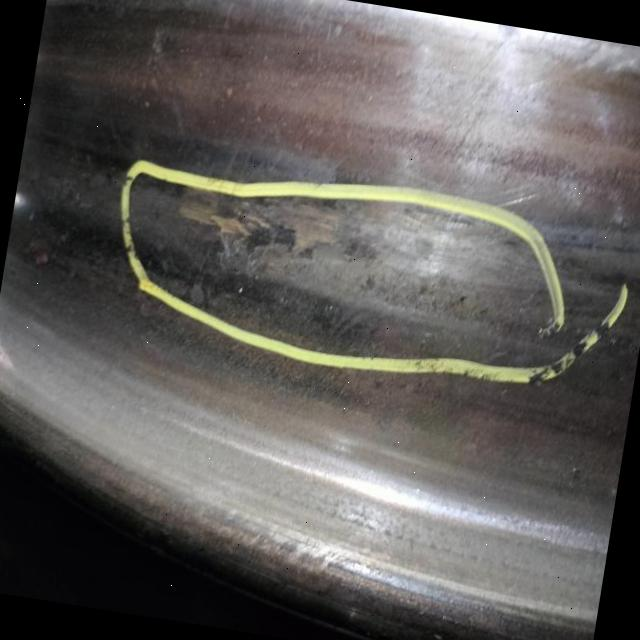flat: (166, 187, 531, 340)
